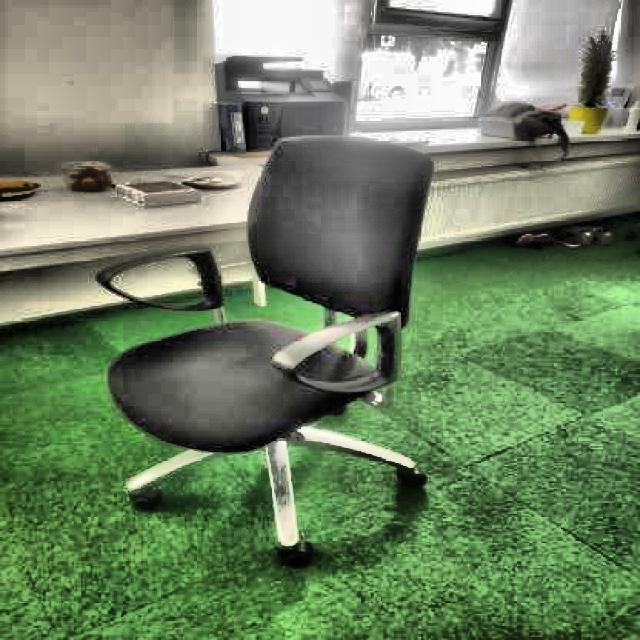cadeira: (74, 124, 454, 564)
